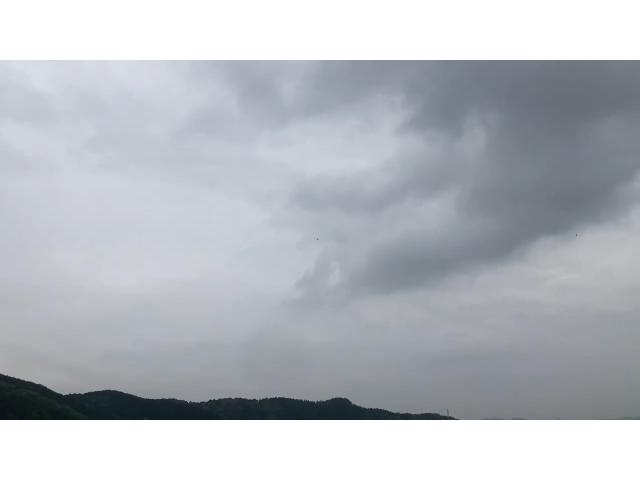Anti-Drone: (308, 231, 324, 245)
